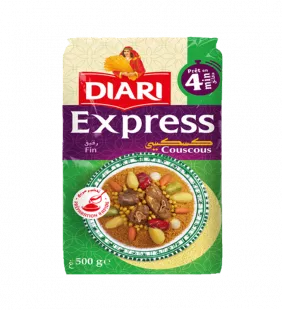DIARI: (52, 28, 229, 284)
